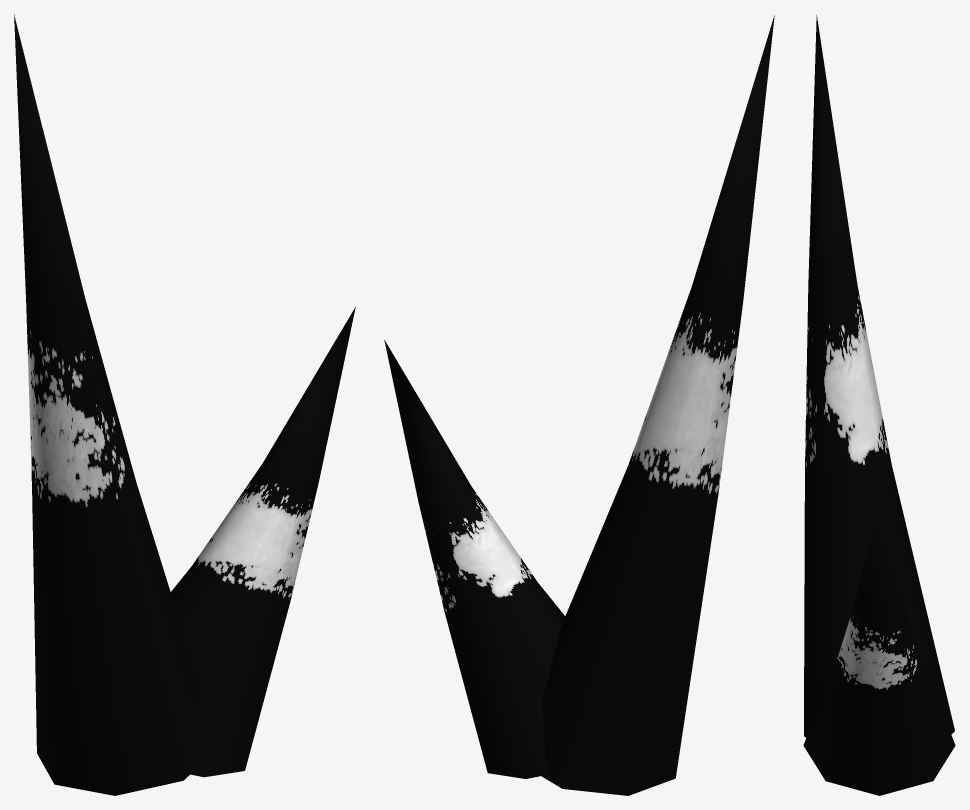
3 renders of one model, left to right at view 1: azimuth 30°, elevation 25°; view 2: azimuth 150°, elevation 25°; view 3: azimuth 270°, elevation 25°, orthographic. The views are drawn at different scales.
Visible parts, largest first — view 1: JC_01; view 2: JC_01; view 3: JC_01.
Part boxes in pixels (x1,y1,x2,y2): JC_01: (14,14,355,795); JC_01: (384,15,774,795); JC_01: (803,15,955,795).
Bounding box in the file's own units: 0.1231 × 0.2555 × 0.052.
1 material, 1 textured.
